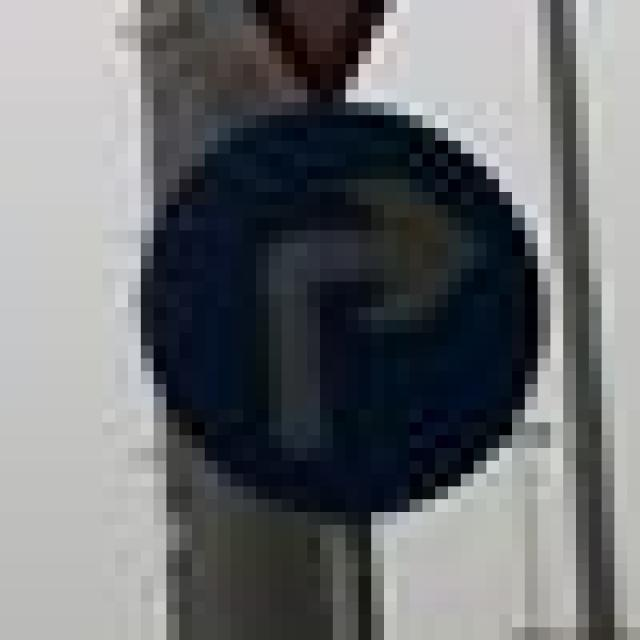railway_crossing: (115, 77, 538, 512)
